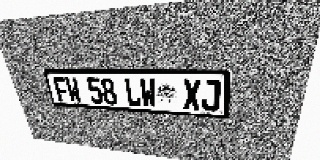5: (86, 77, 104, 104)
8: (100, 78, 118, 105)
F: (52, 77, 70, 102)
J: (201, 79, 221, 112)
L: (124, 78, 142, 107)
W: (139, 78, 157, 108), (64, 77, 82, 103)
X: (183, 79, 201, 110)
